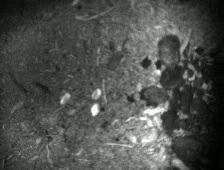corn: (57, 91, 73, 107), (89, 102, 103, 117), (89, 87, 103, 101), (70, 1, 82, 7)
